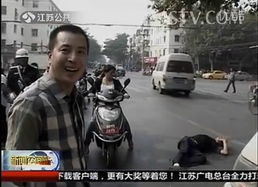falling: (167, 128, 232, 169)
